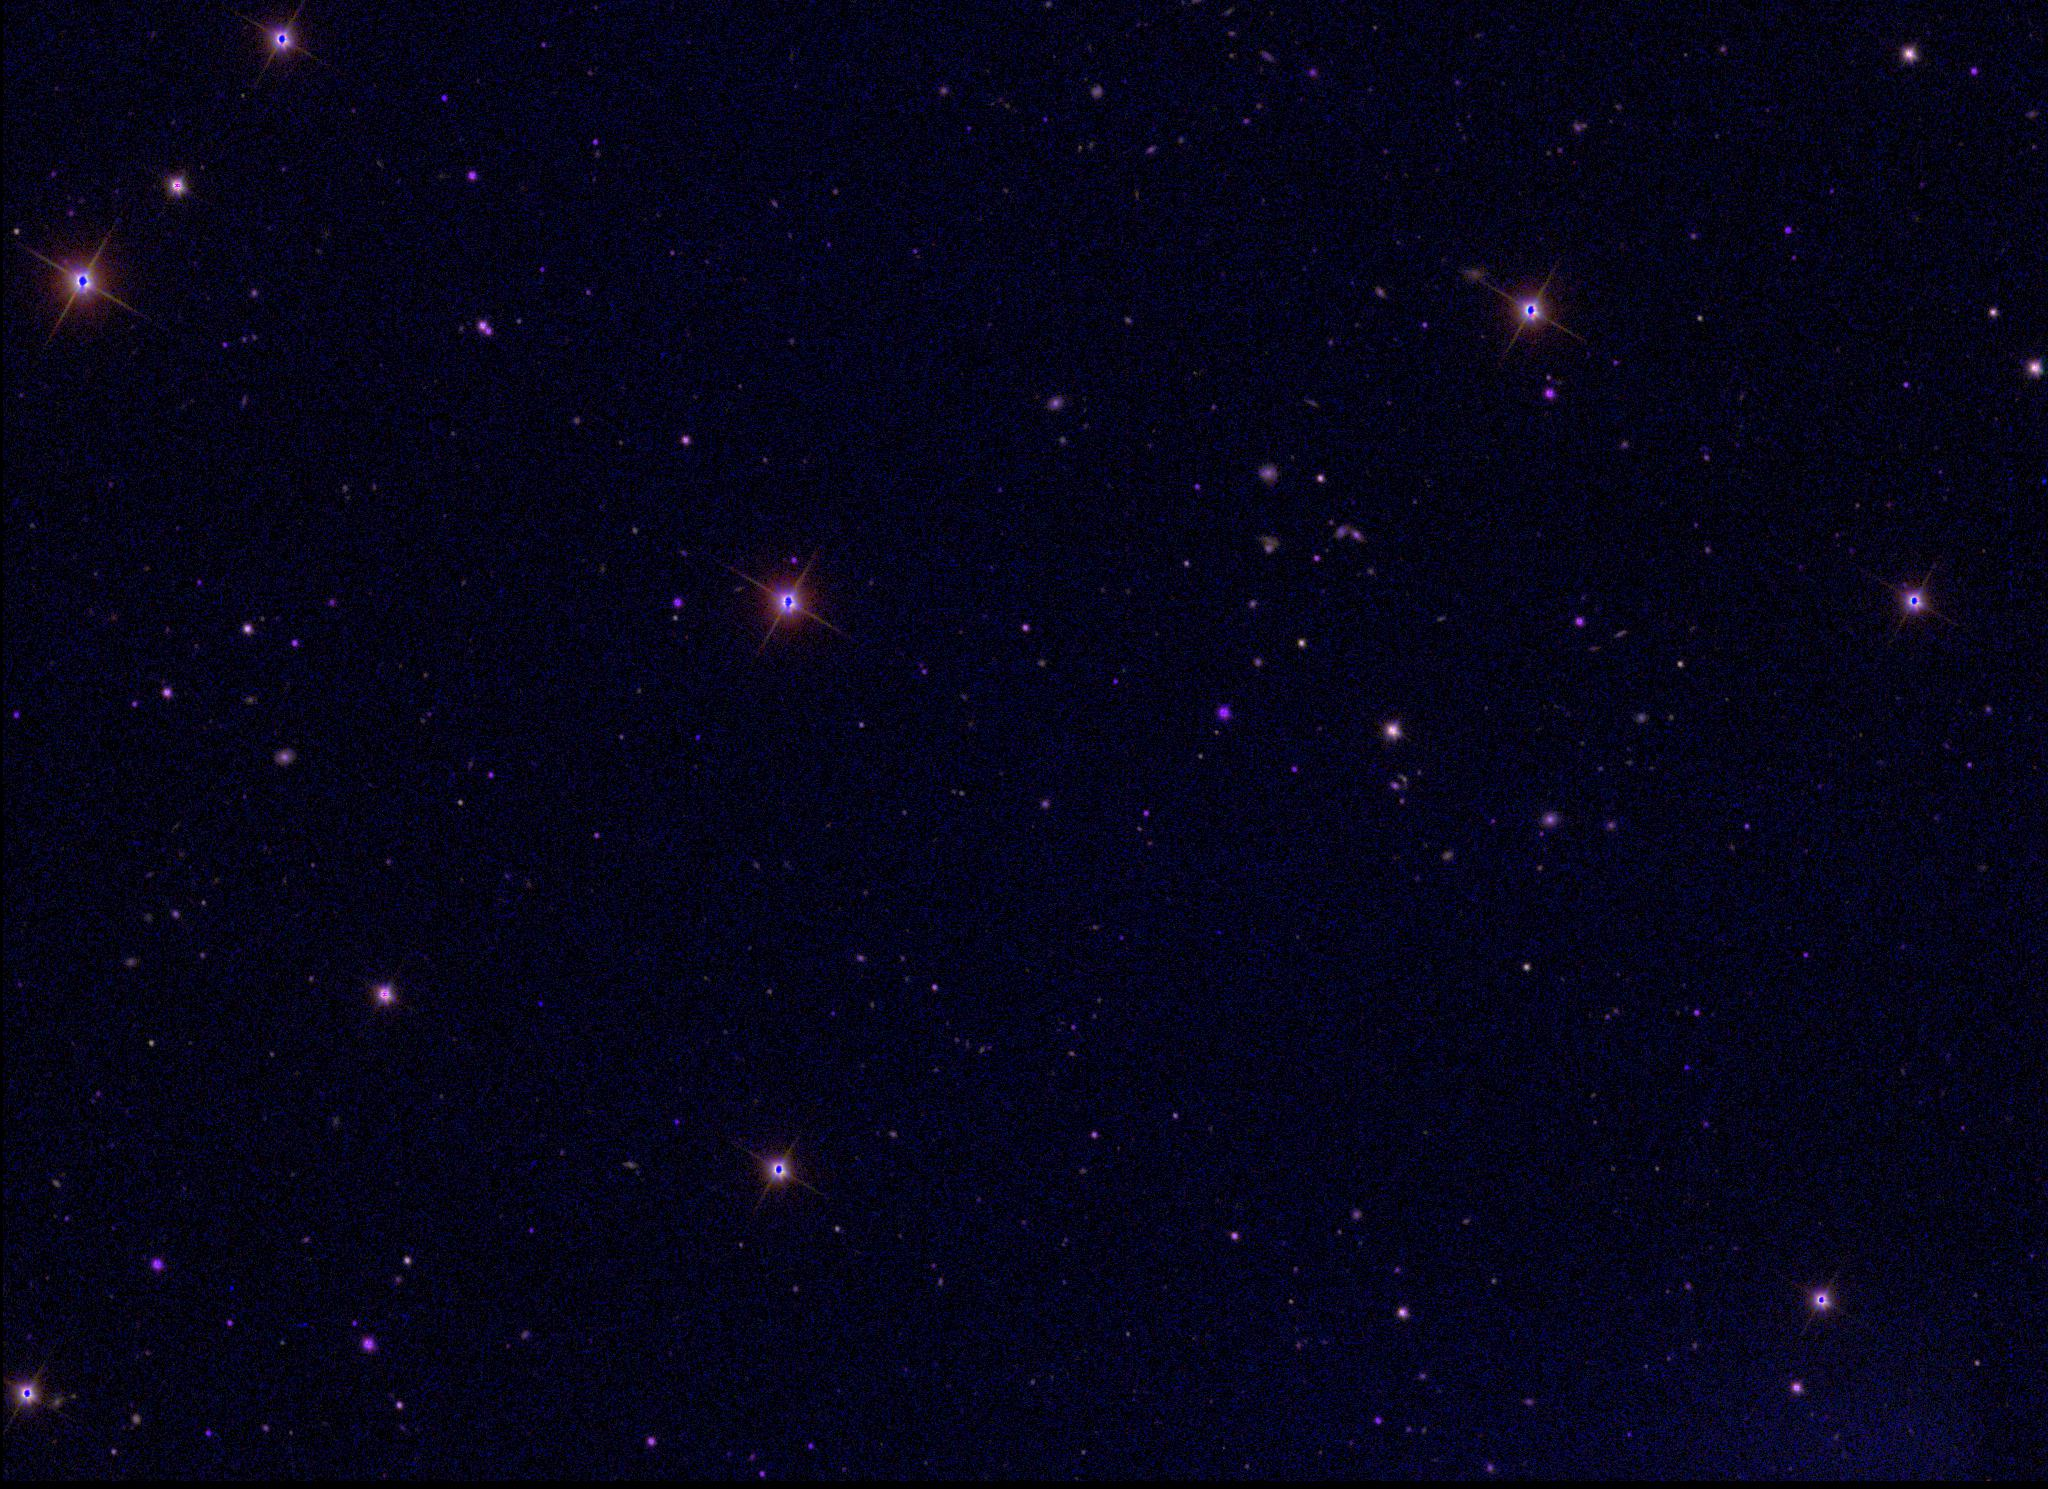L: (534, 996, 549, 1010)
